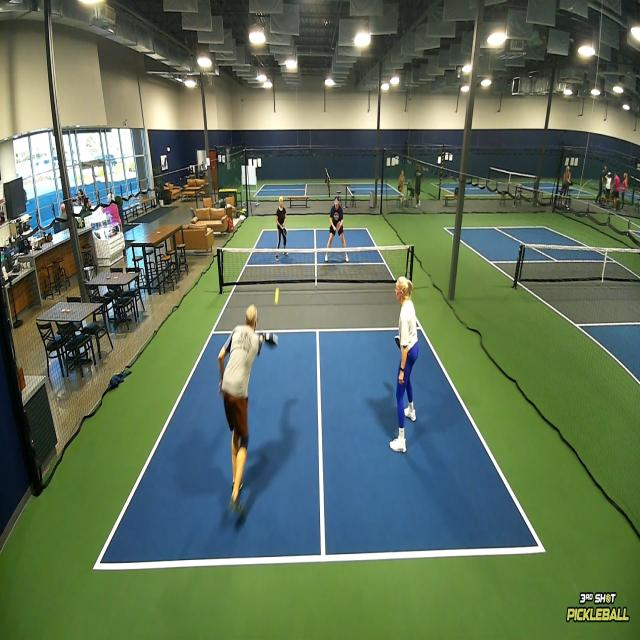Pickleball: (273, 286, 280, 306)
